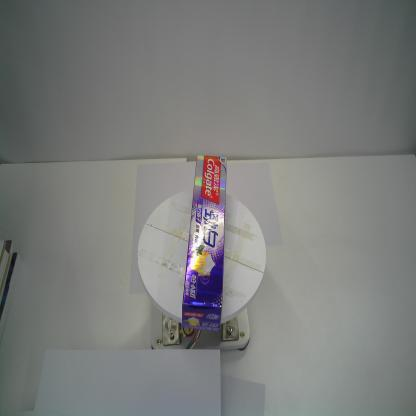Personal Hygiene: (181, 154, 226, 330)
